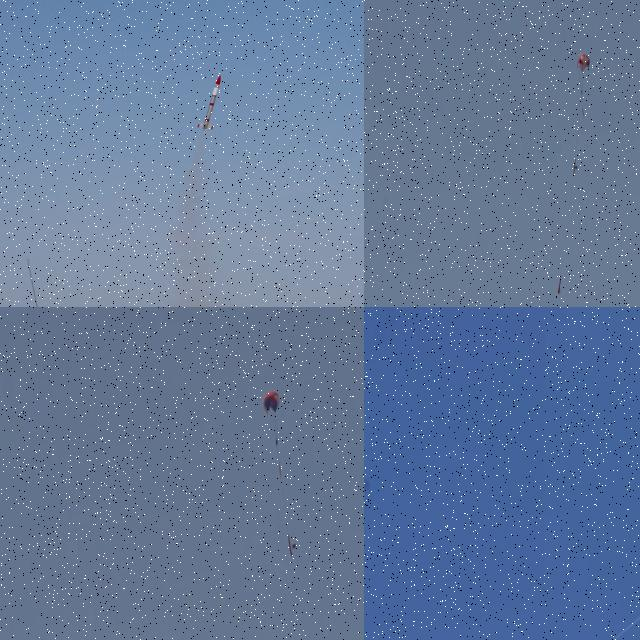Rocket: (196, 75, 222, 132), (557, 278, 562, 294)
